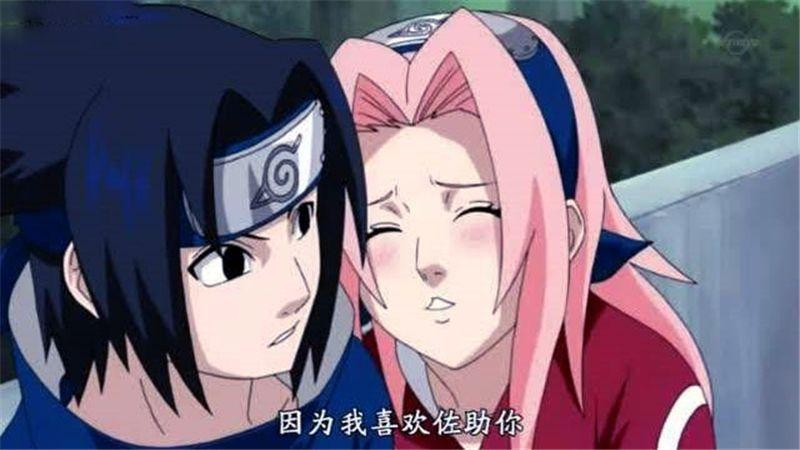sakura: (332, 14, 586, 370)
sasuke: (57, 98, 327, 381)
